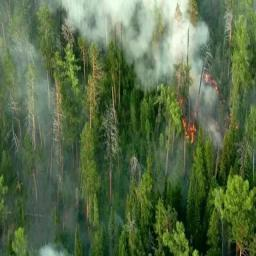Low smoke: (59, 2, 222, 140), (27, 167, 78, 256)
Small fire: (175, 98, 203, 145), (201, 65, 221, 99)
